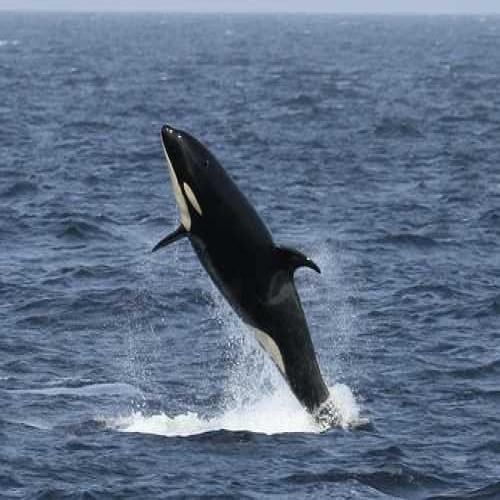killer_whale-endangered: (145, 98, 379, 451)
